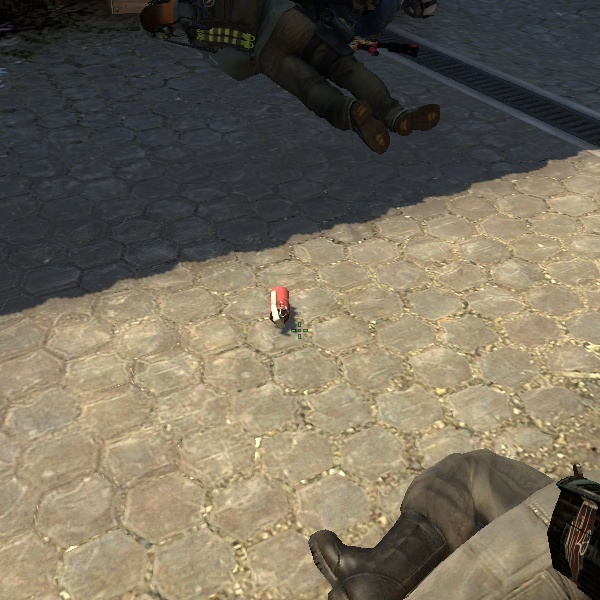ct_body: (190, 1, 468, 154)
